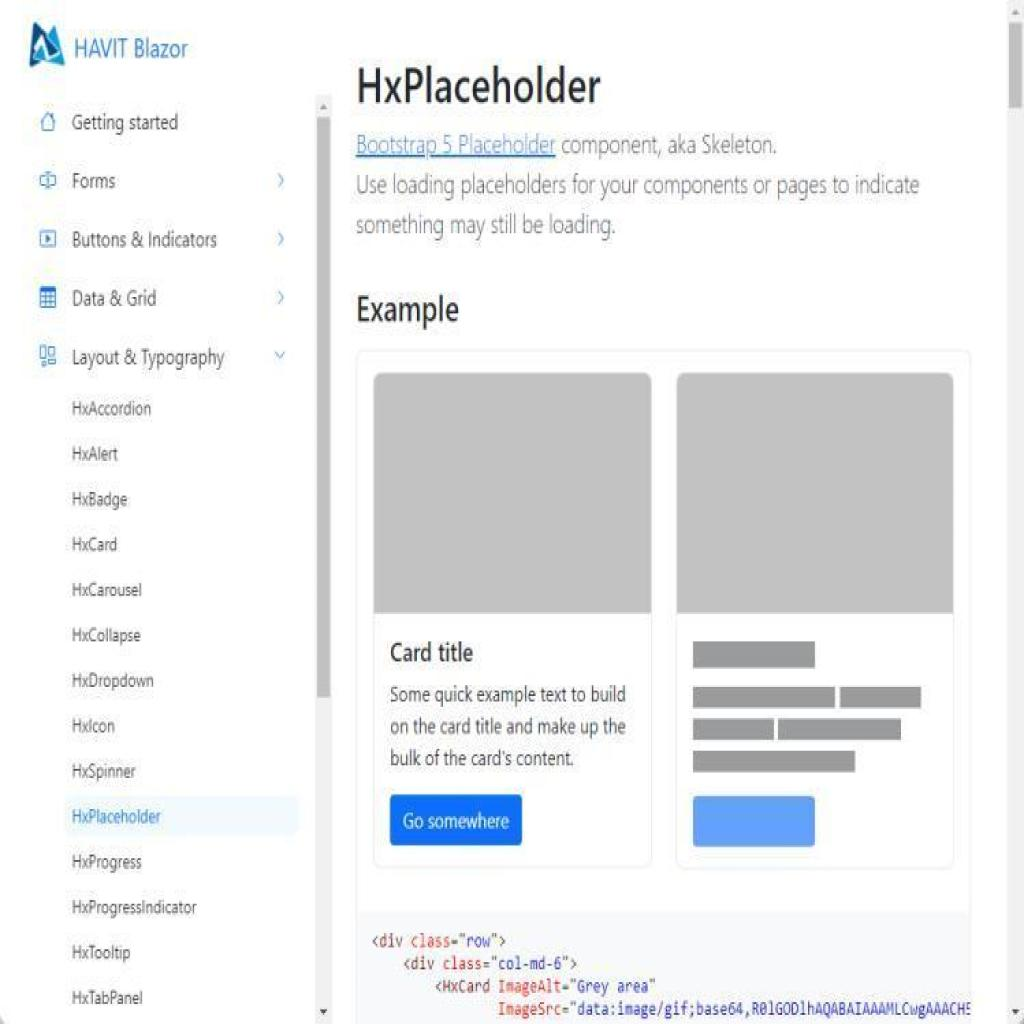button: (66, 793, 298, 836), (390, 792, 522, 846), (693, 794, 818, 848)
icon: (36, 162, 60, 191), (38, 342, 58, 374), (38, 282, 59, 312), (274, 282, 292, 314), (38, 108, 58, 136), (37, 228, 59, 253), (272, 168, 290, 191), (272, 228, 290, 250), (270, 344, 288, 366)
label: (68, 340, 226, 372), (71, 228, 219, 253), (71, 106, 182, 135), (66, 286, 162, 312), (71, 171, 126, 193)
